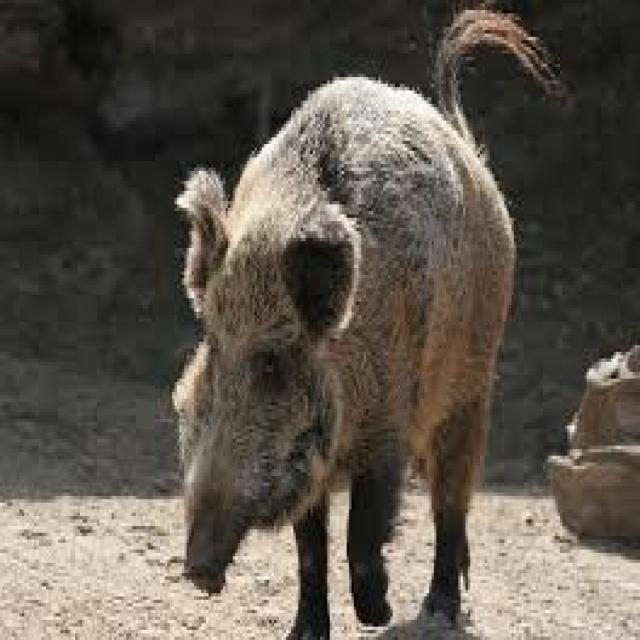boar: (132, 0, 629, 640)
